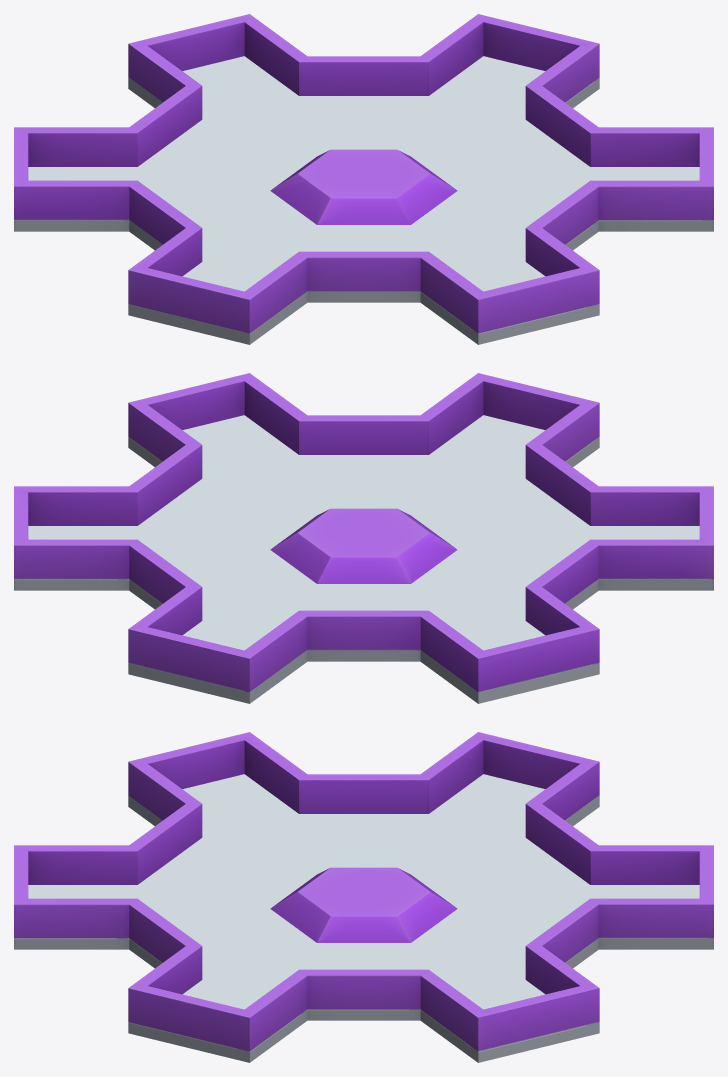
The model's file is battle_stage_1.fbx.
3 renders of one model, top to bottom at view 1: azimuth 30°, elevation 25°; view 2: azimuth 150°, elevation 25°; view 3: azimuth 270°, elevation 25°, orthographic.
Visible parts, largest first — view 1: Cylinder.063, Cylinder.062, Cylinder.064; view 2: Cylinder.063, Cylinder.062, Cylinder.064; view 3: Cylinder.063, Cylinder.062, Cylinder.064.
Boxes of the visible parts, x1,y1,x2,y2 form: Cylinder.063: (14,14,713,333); Cylinder.062: (14,56,713,344); Cylinder.064: (270,149,457,224); Cylinder.063: (14,373,713,692); Cylinder.062: (14,415,713,703); Cylinder.064: (270,508,457,583); Cylinder.063: (14,732,713,1051); Cylinder.062: (14,774,713,1062); Cylinder.064: (270,867,457,942).
Bounding box in the file's own units: 10867 × 800 × 11247.
